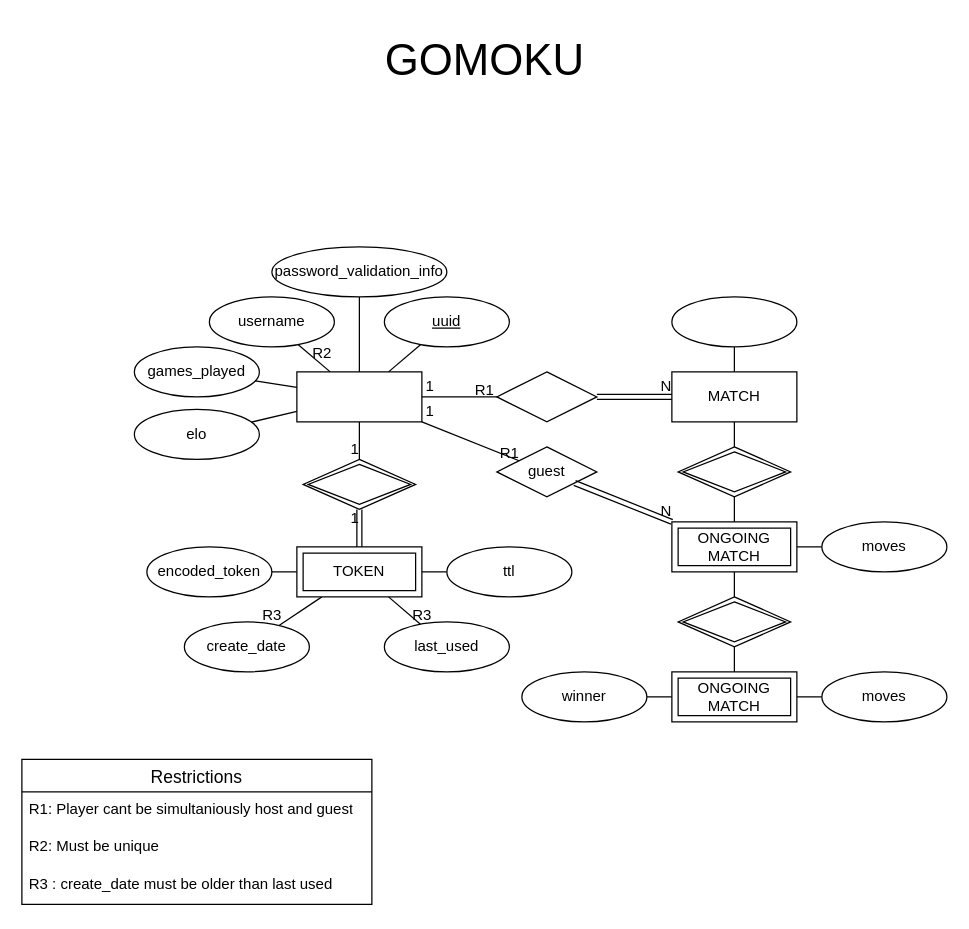
The diagram is 969 pixels wide and 929 high, and some of its shapes have lost their labels. Each missing label, with the centre of its shape:
"has" goes at pixel 359 483.
"host" goes at pixel 546 396.
"match_id" goes at pixel 734 321.
"USER" goes at pixel 359 396.
